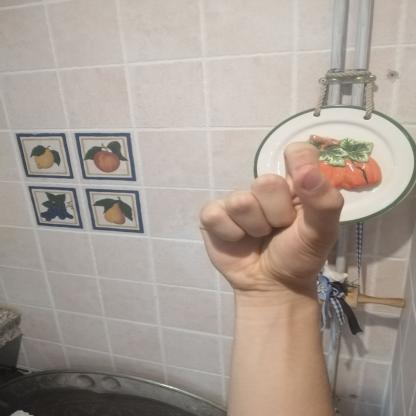FAA: (186, 133, 355, 302)
